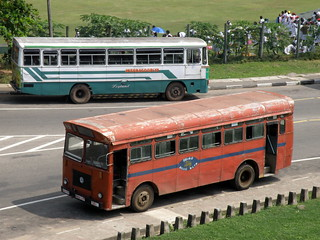bus: (60, 89, 295, 212), (9, 36, 209, 101)
